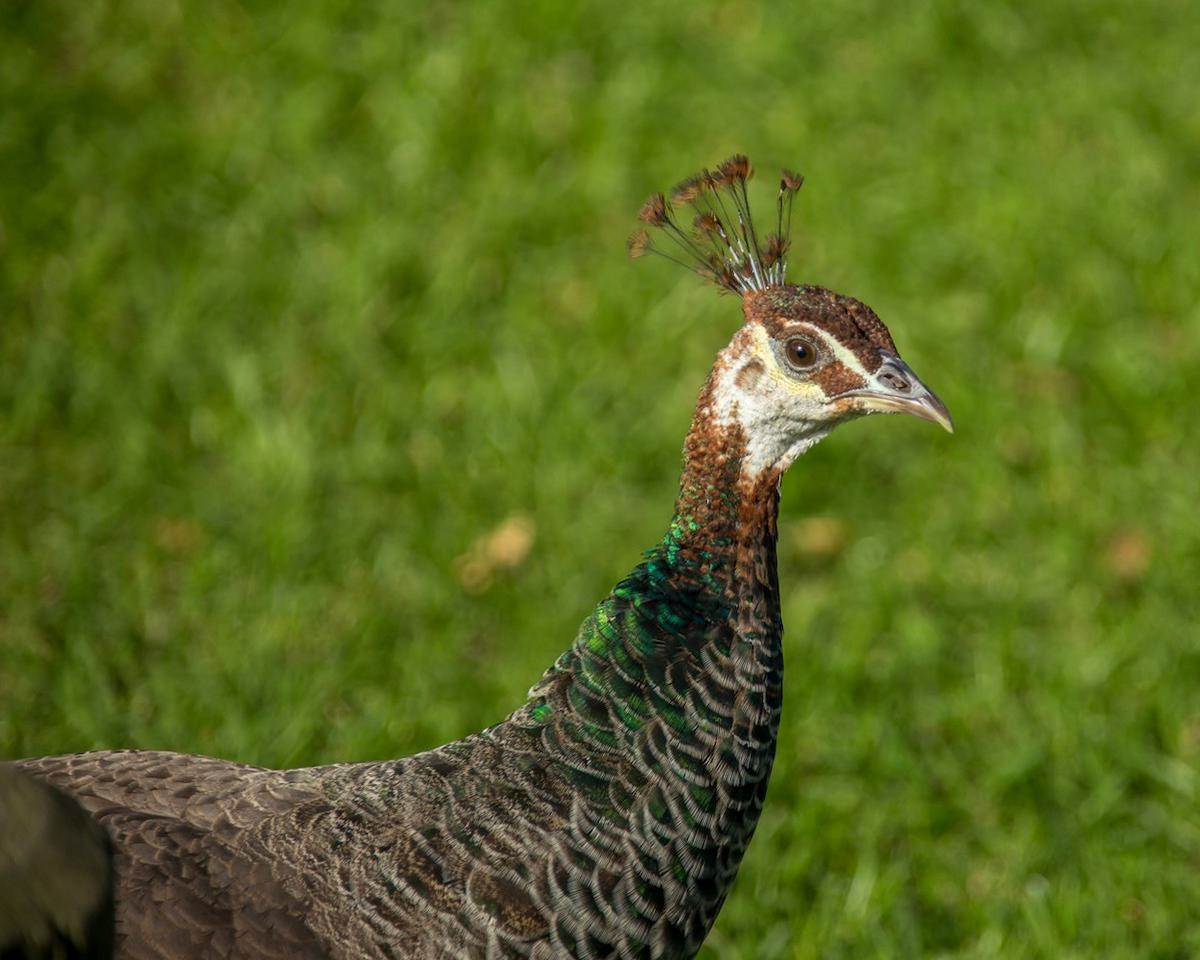peacock: (1, 222, 1004, 960)
